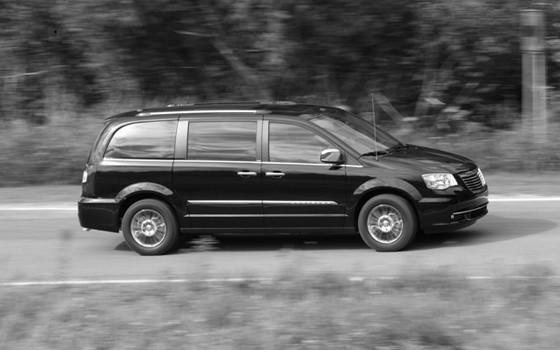car: (80, 104, 488, 253)
